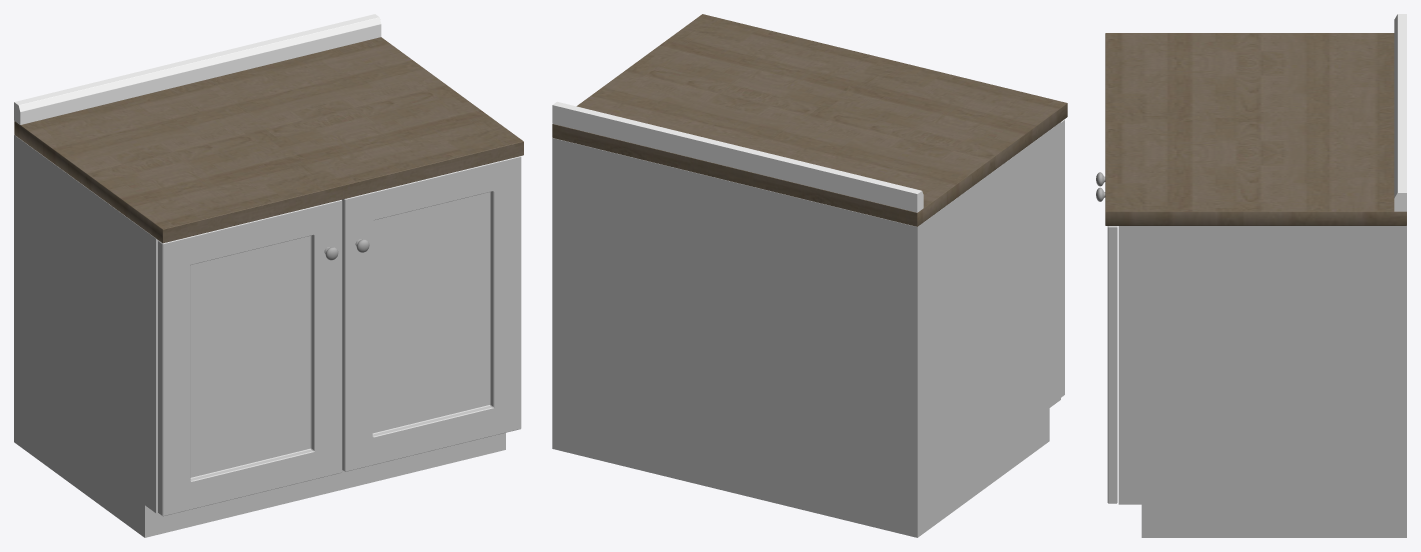
File: blendswap-cc-by-kitchenLowerCabinet.glb
3 renders of one model, left to right at view 1: azimuth 30°, elevation 25°; view 2: azimuth 150°, elevation 25°; view 3: azimuth 270°, elevation 25°, orthographic.
Visible parts, largest first — view 1: Door-and-Drawers-Right_Cube.003, Worktop-Right.001_Cube.008, Base-unit-Box-Right.001_Cube.014, Plane.000; view 2: Base-unit-Box-Right.001_Cube.014, Worktop-Right.001_Cube.008, Plane.000, Door-and-Drawers-Right_Cube.003; view 3: Base-unit-Box-Right.001_Cube.014, Worktop-Right.001_Cube.008, Door-and-Drawers-Right_Cube.003, Plane.000.
Boxes of the visible parts, x1,y1,x2,y2 form: Door-and-Drawers-Right_Cube.003: (158,156,521,516); Worktop-Right.001_Cube.008: (14,37,523,243); Base-unit-Box-Right.001_Cube.014: (14,134,505,537); Plane.000: (14,14,381,124); Base-unit-Box-Right.001_Cube.014: (552,122,1060,537); Worktop-Right.001_Cube.008: (552,14,1067,226); Plane.000: (552,101,923,212); Door-and-Drawers-Right_Cube.003: (1061,119,1064,397); Base-unit-Box-Right.001_Cube.014: (1118,226,1406,537); Worktop-Right.001_Cube.008: (1105,33,1406,225); Door-and-Drawers-Right_Cube.003: (1107,226,1117,503); Plane.000: (1394,14,1406,211).
Size of the model in its own units: 97.59 by 87.8 by 71.69.
Materials: 4 (1 with a texture image).
